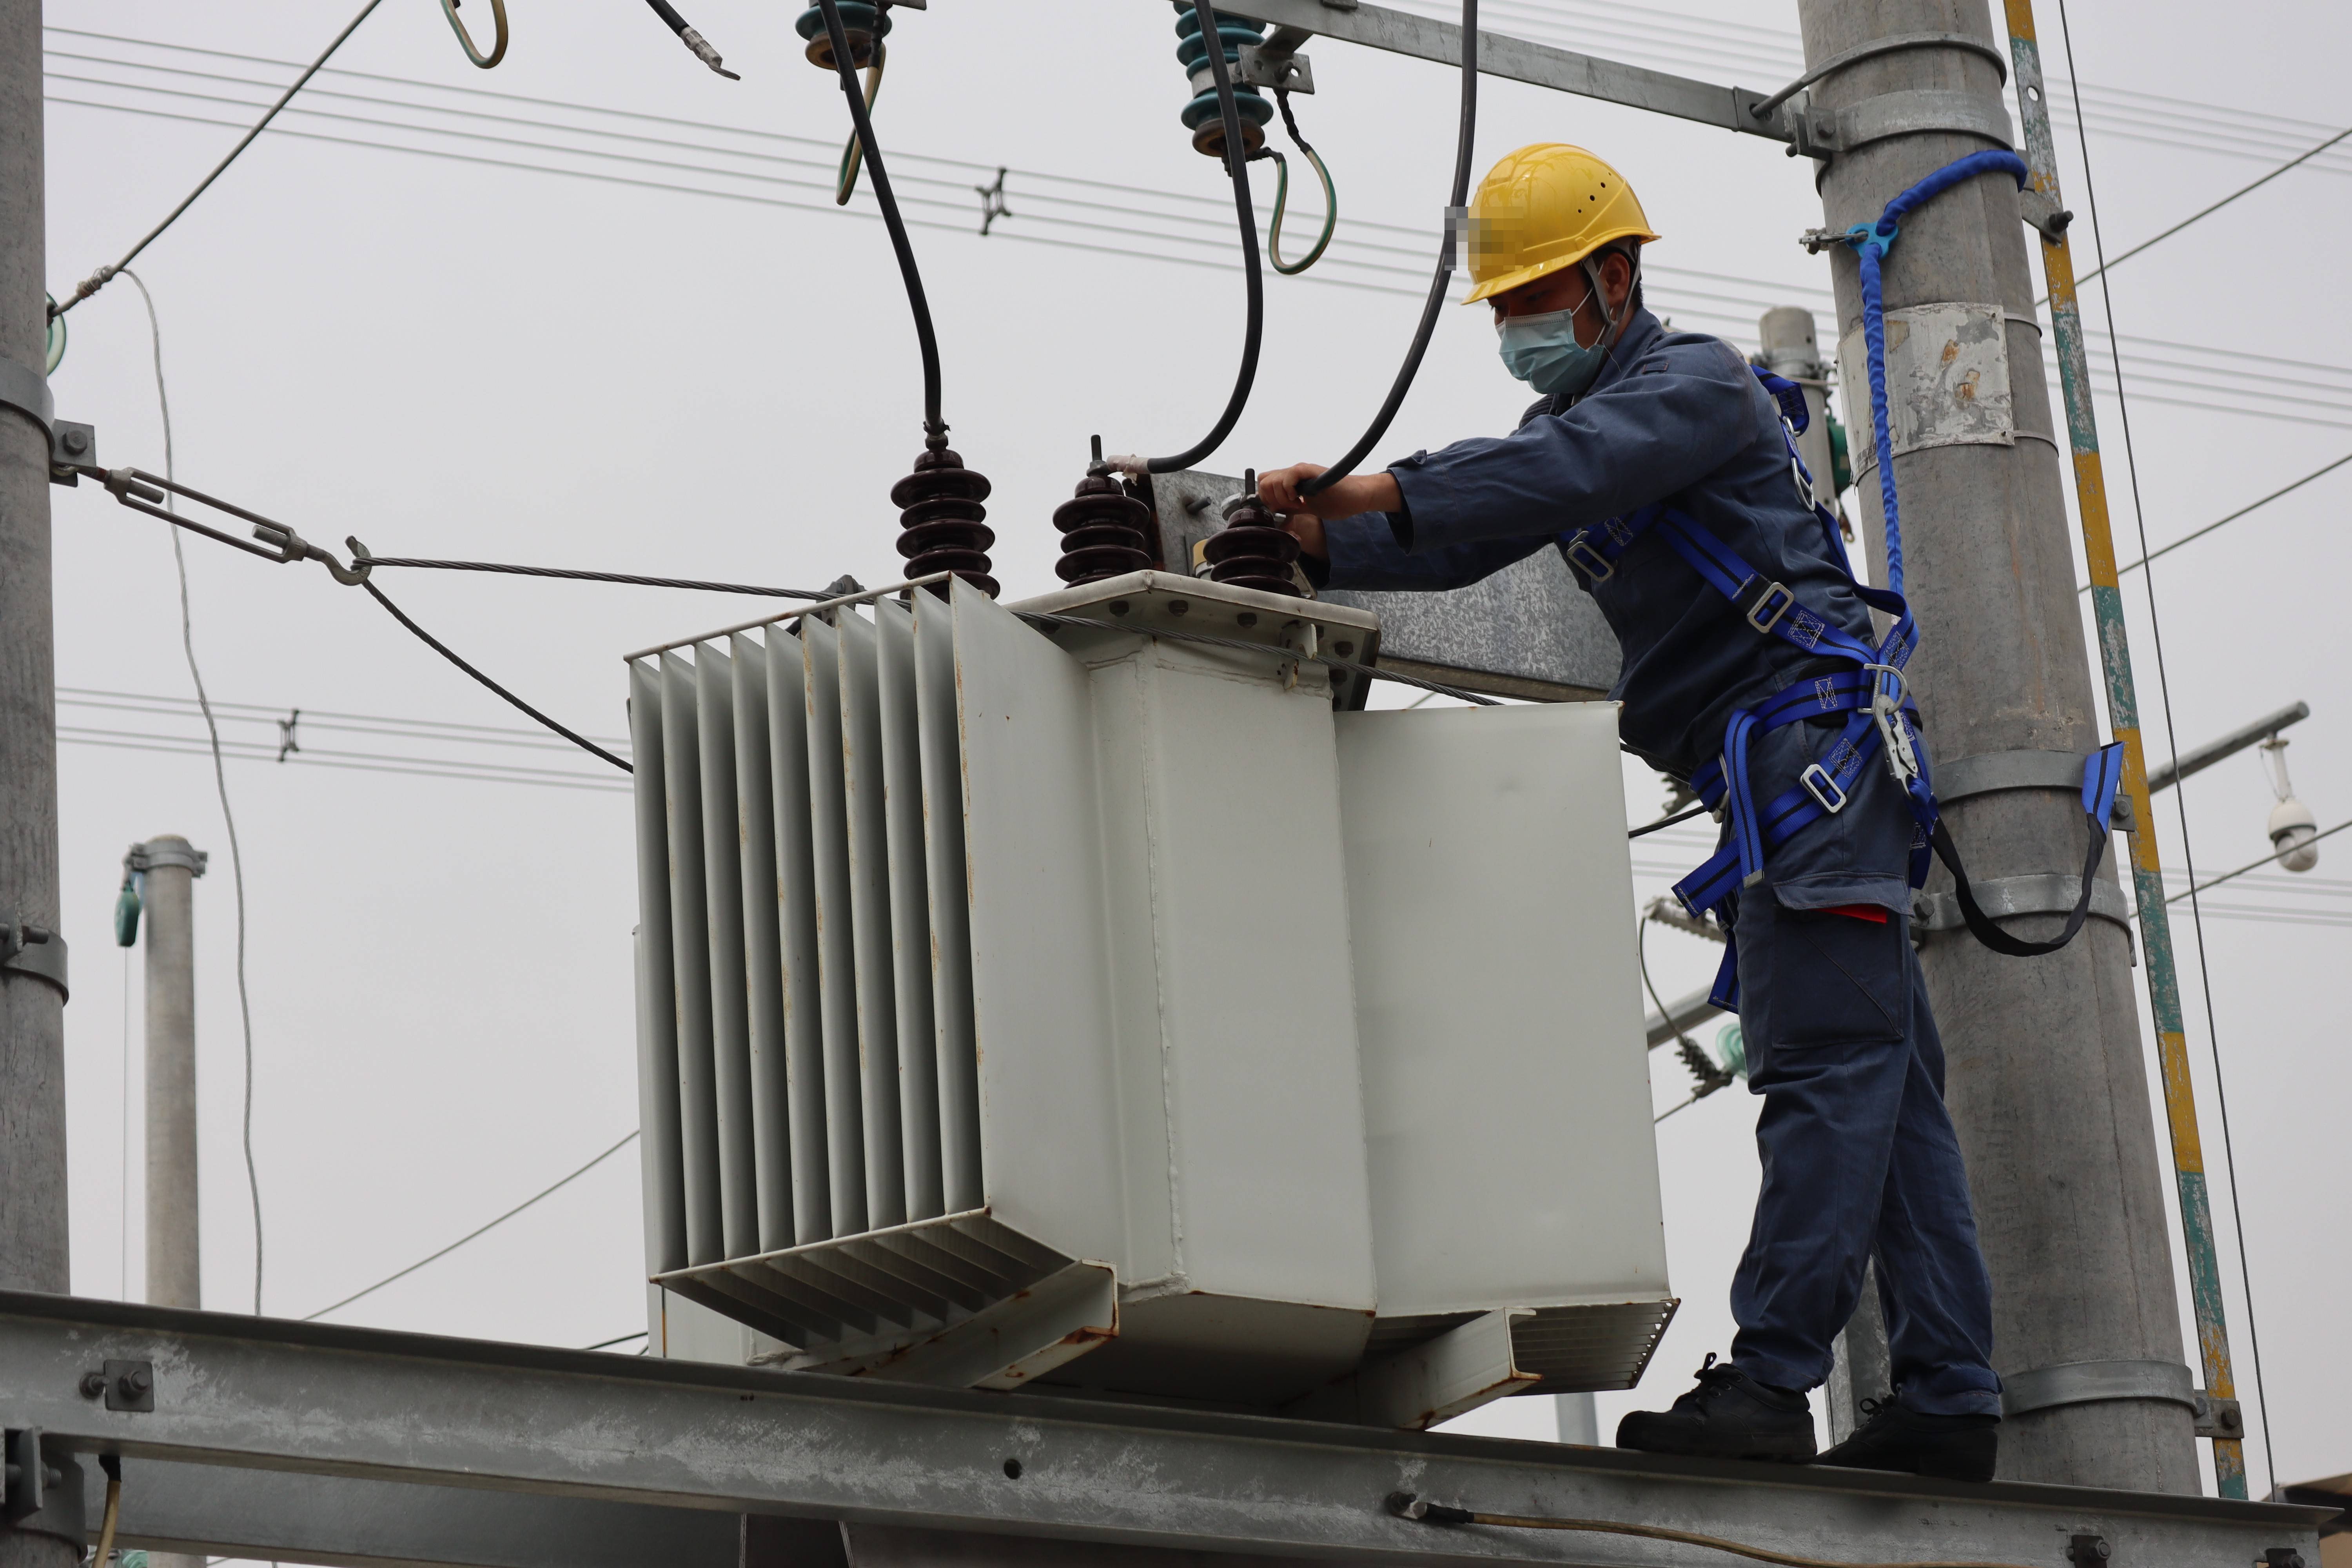downsuit: (1690, 705, 2002, 1407)
upsuit: (1379, 311, 1899, 688)
